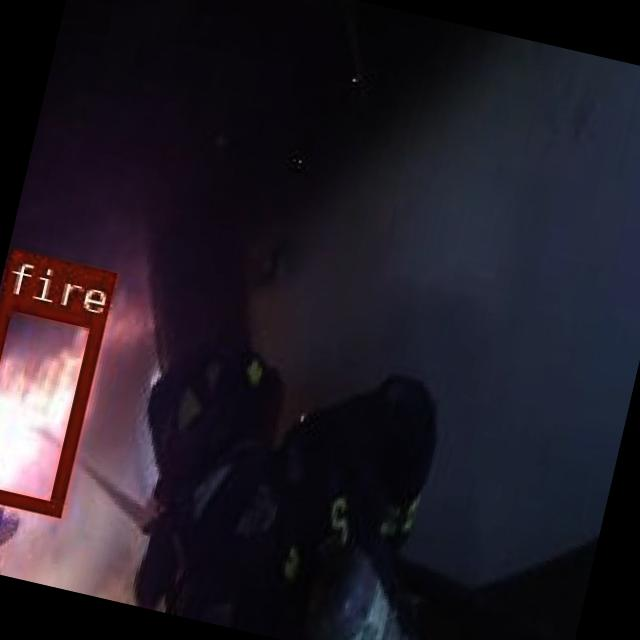fire: (0, 291, 102, 513)
